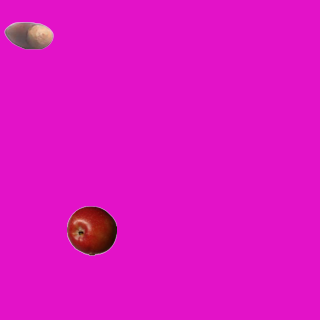Apple Braeburn: (66, 205, 116, 255)
Hazelnut: (3, 10, 53, 60)
